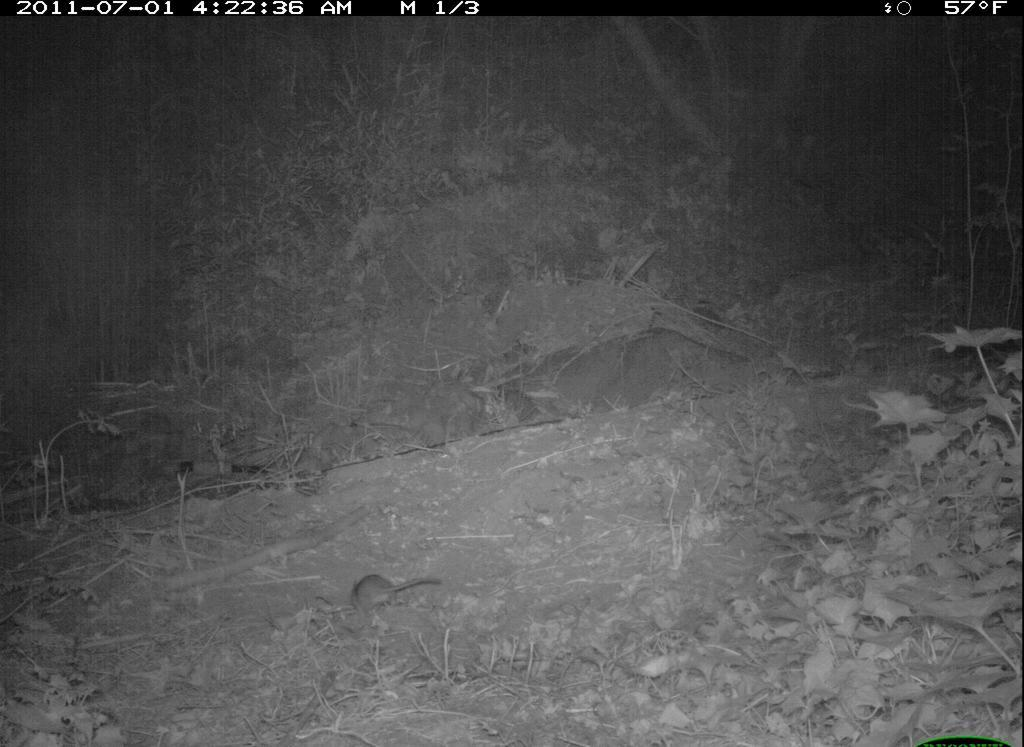rodent: (345, 571, 449, 623)
